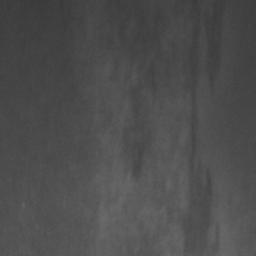Inclusion: (178, 160, 211, 256), (205, 0, 227, 88)
